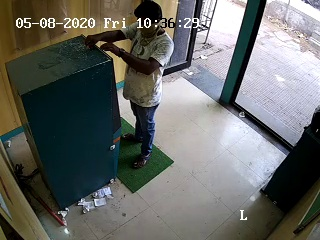open: (173, 3, 267, 103)
